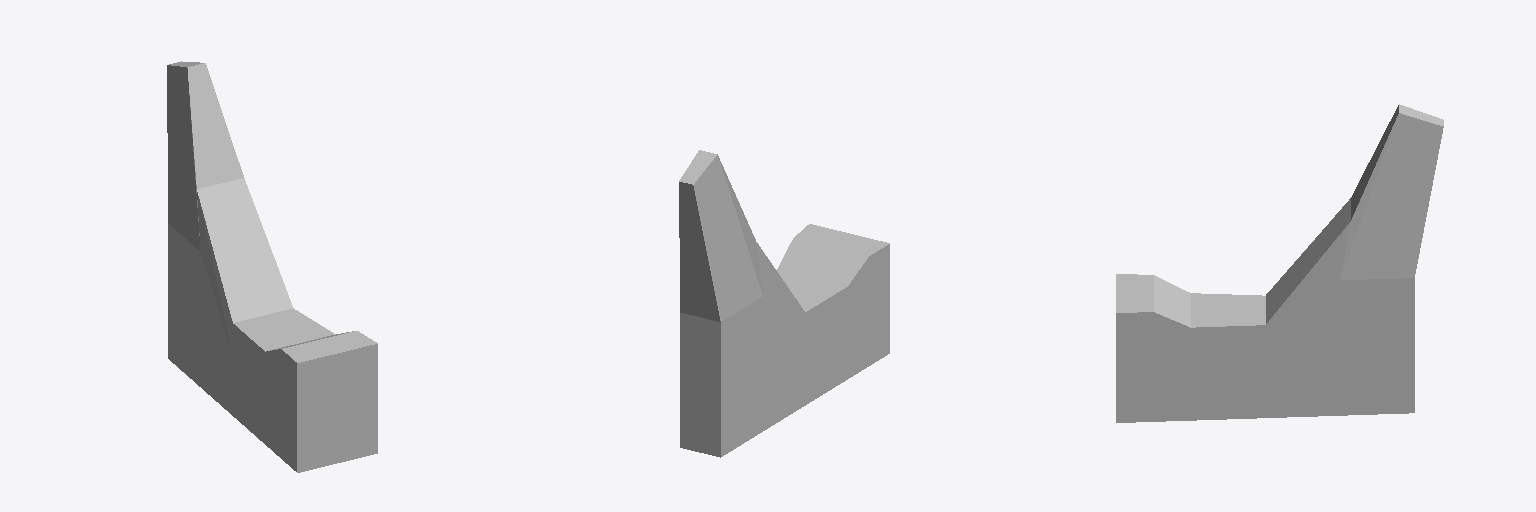
File: corbel_large_top.obj
3 renders of one model, left to right at view 1: azimuth 30°, elevation 25°; view 2: azimuth 150°, elevation 25°; view 3: azimuth 270°, elevation 25°, orthographic.
Visible parts, largest first — view 1: cuboid_selection; view 2: cuboid_selection; view 3: cuboid_selection.
Boxes of the visible parts, <box> form: cuboid_selection: <box>167,61,377,472</box>; cuboid_selection: <box>679,150,889,457</box>; cuboid_selection: <box>1116,104,1443,422</box>.
Bounding box in the file's own units: 0.625 × 2.18 × 2.19.